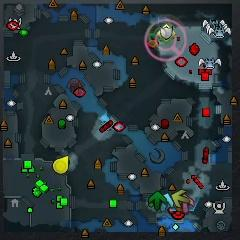Other: (145, 19, 187, 62), (157, 24, 176, 43)
p4: (53, 155, 70, 174)
x1: (178, 194, 195, 213)
x2: (172, 189, 189, 208)
x3: (161, 193, 174, 211)
x4: (148, 192, 166, 210)
